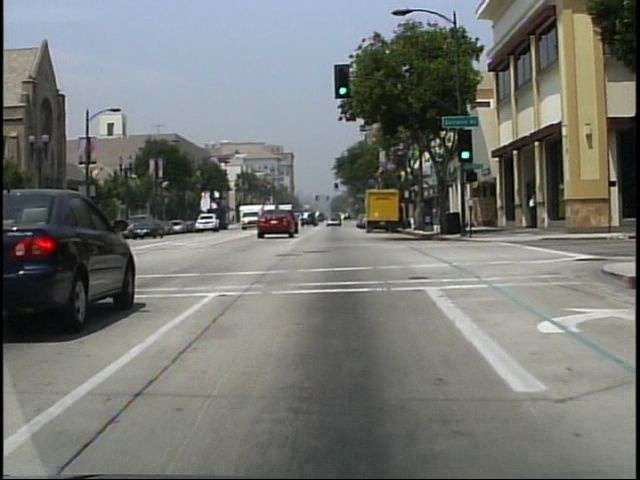person: (528, 194, 536, 229)
